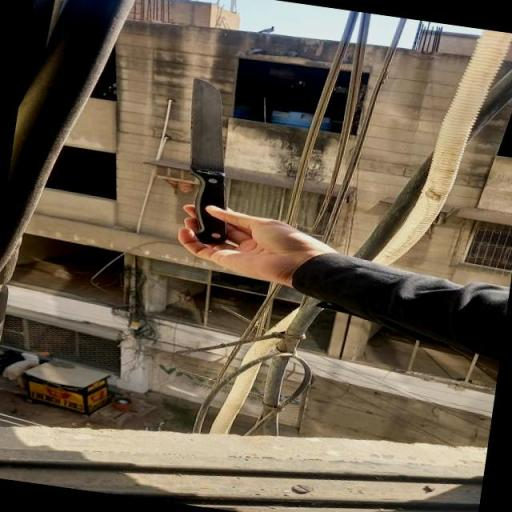knife: (172, 78, 250, 247)
